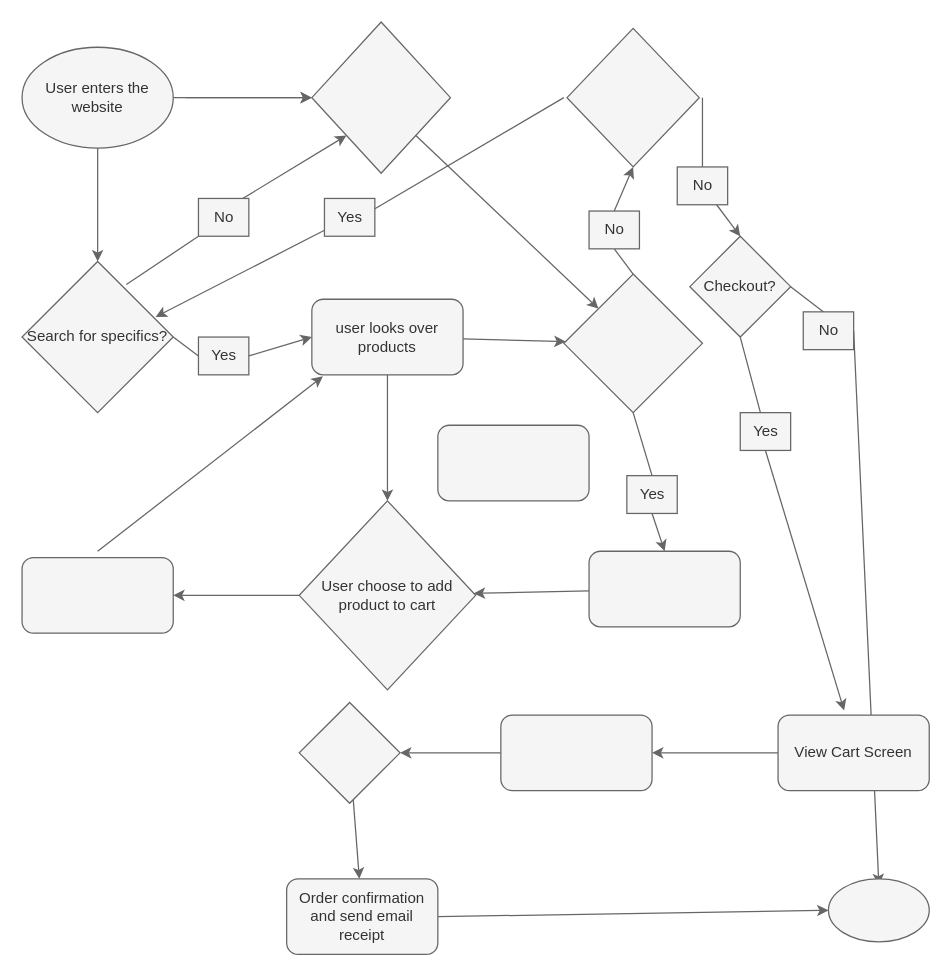
This 951x977 diagram has some shape labels left out. Each missing label, with the centre of its shape:
"Continue shopping?" goes at pixel 632 97.
"Explore products on the website" goes at pixel 380 97.
"Input payment info" goes at pixel 349 752.
"Leaves website" goes at pixel 878 910.
"Product webpage opens" goes at pixel 664 588.
"User gets confirmation" goes at pixel 97 594.
"View payment screen" goes at pixel 576 752.
"Whether or not to view single product" goes at pixel 632 343.
